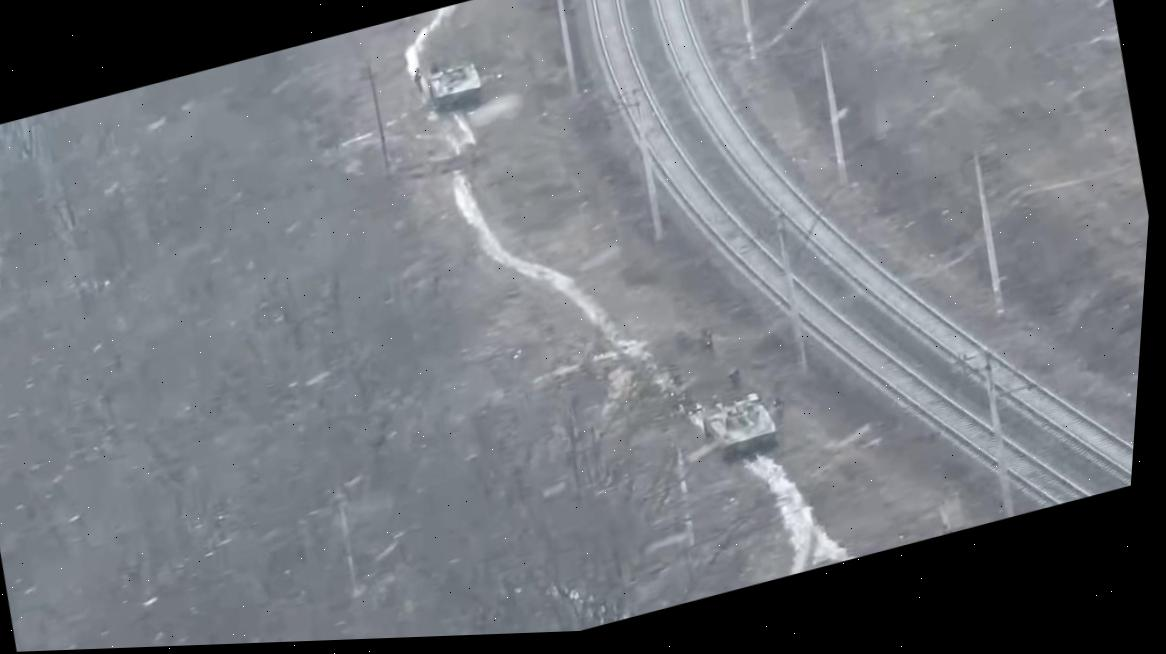person: (695, 327, 726, 365), (769, 391, 796, 426), (405, 60, 428, 96), (723, 362, 749, 391), (933, 523, 956, 537), (426, 56, 442, 74), (511, 39, 513, 40)
tank: (700, 385, 792, 473), (422, 54, 492, 117)
